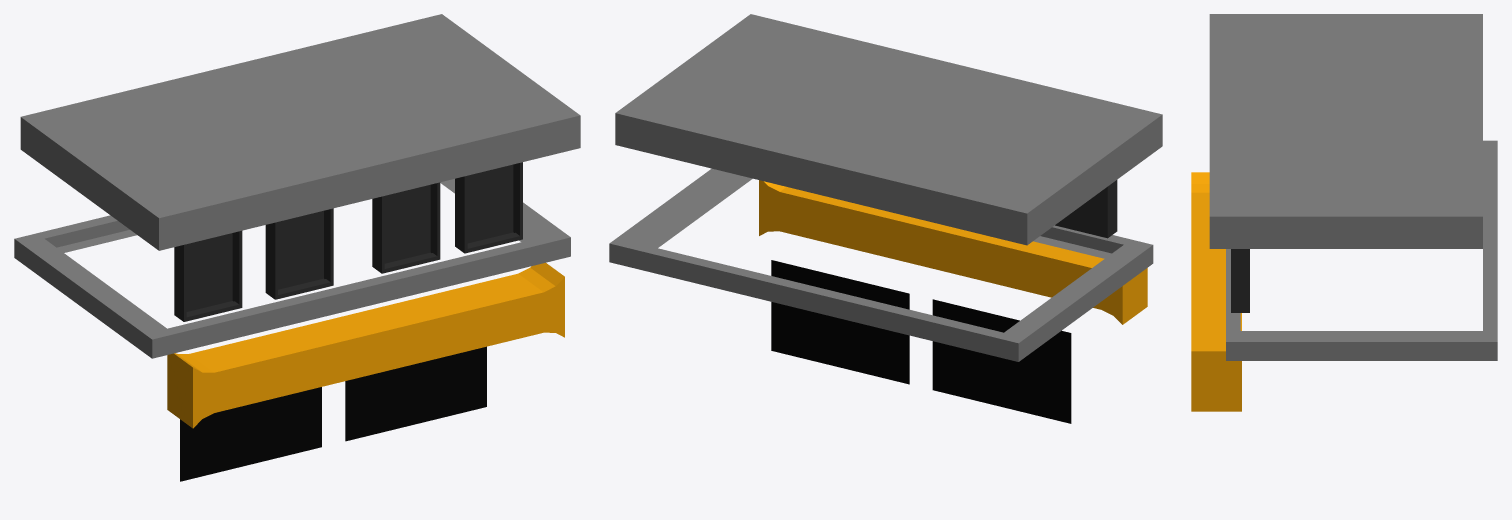
Rendered from PredioGenericoEscalavelAzul.fbx.
3 views of the same model, side by side, from view 1: azimuth 30°, elevation 25°; view 2: azimuth 150°, elevation 25°; view 3: azimuth 270°, elevation 25° (orthographic). The views are drawn at different scales.
Parts seen in each view (by area): view 1: LojaGenericaEscalavel; view 2: LojaGenericaEscalavel; view 3: LojaGenericaEscalavel.
Boxes of the visible parts, bbox=[...] form: LojaGenericaEscalavel: bbox=[14, 14, 580, 481]; LojaGenericaEscalavel: bbox=[609, 14, 1162, 423]; LojaGenericaEscalavel: bbox=[1191, 14, 1497, 411].
Bounding box in the file's own units: 1095 × 757 × 699.
